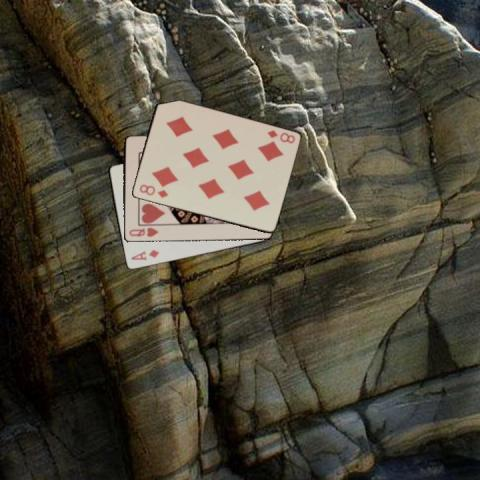8d: (264, 127, 296, 145), (136, 182, 169, 199)
Ad: (128, 247, 161, 262)
Qh: (126, 224, 160, 238)
